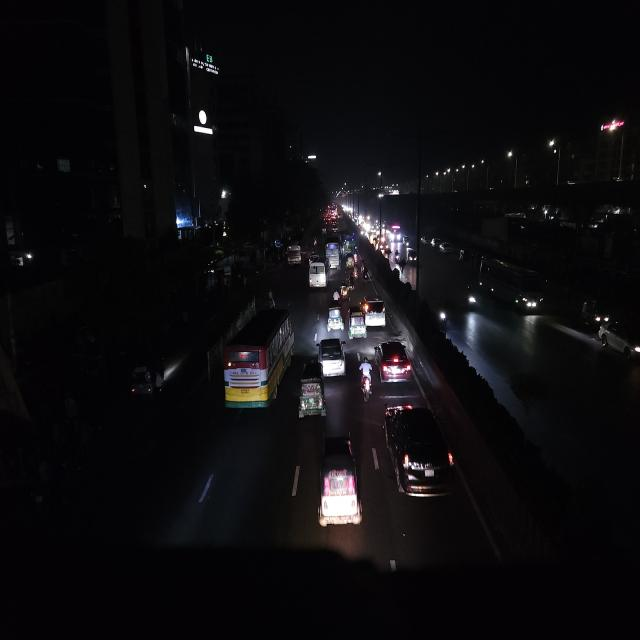bus: (220, 305, 296, 419), (476, 253, 548, 316), (308, 252, 328, 293), (324, 233, 343, 272)
car: (382, 398, 458, 507), (0, 210, 36, 276), (596, 317, 640, 365), (373, 337, 415, 386), (317, 334, 348, 380), (361, 292, 387, 330), (286, 240, 304, 266), (434, 238, 448, 253), (430, 236, 438, 250)
cng: (312, 431, 364, 538), (296, 358, 328, 424), (128, 355, 168, 406), (348, 301, 367, 341), (326, 296, 345, 334), (405, 246, 418, 266), (344, 250, 356, 269)
motorcycle: (358, 352, 374, 405), (464, 284, 478, 316), (436, 300, 449, 330), (362, 264, 370, 283), (395, 250, 401, 268)
